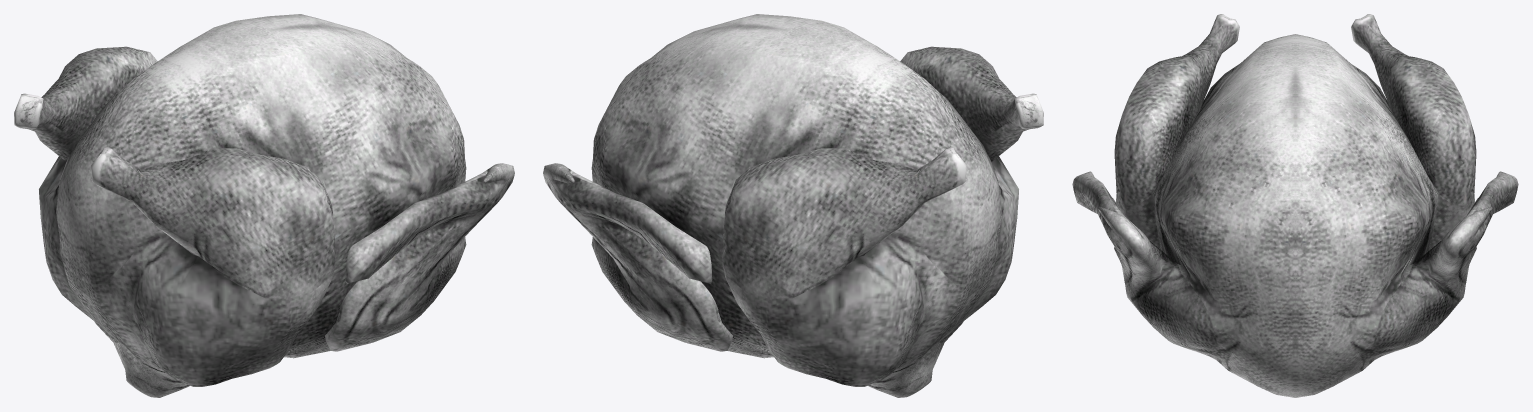
Rendered from SurvivorMale_Head_Helmet_Turkey_LOD0.glb.
3 renders of one model, left to right at view 1: azimuth 30°, elevation 25°; view 2: azimuth 150°, elevation 25°; view 3: azimuth 270°, elevation 25°, orthographic. The views are drawn at different scales.
Visible parts, largest first — view 1: Hoodie; view 2: Hoodie; view 3: Hoodie.
Boxes of the visible parts, x1=… form: Hoodie: x1=14, y1=14, x2=514, y2=397; Hoodie: x1=543, y1=14, x2=1043, y2=397; Hoodie: x1=1072, y1=14, x2=1518, y2=397.
Bounding box in the file's own units: 0.315 × 0.2564 × 0.3337.
1 material, 1 textured.
